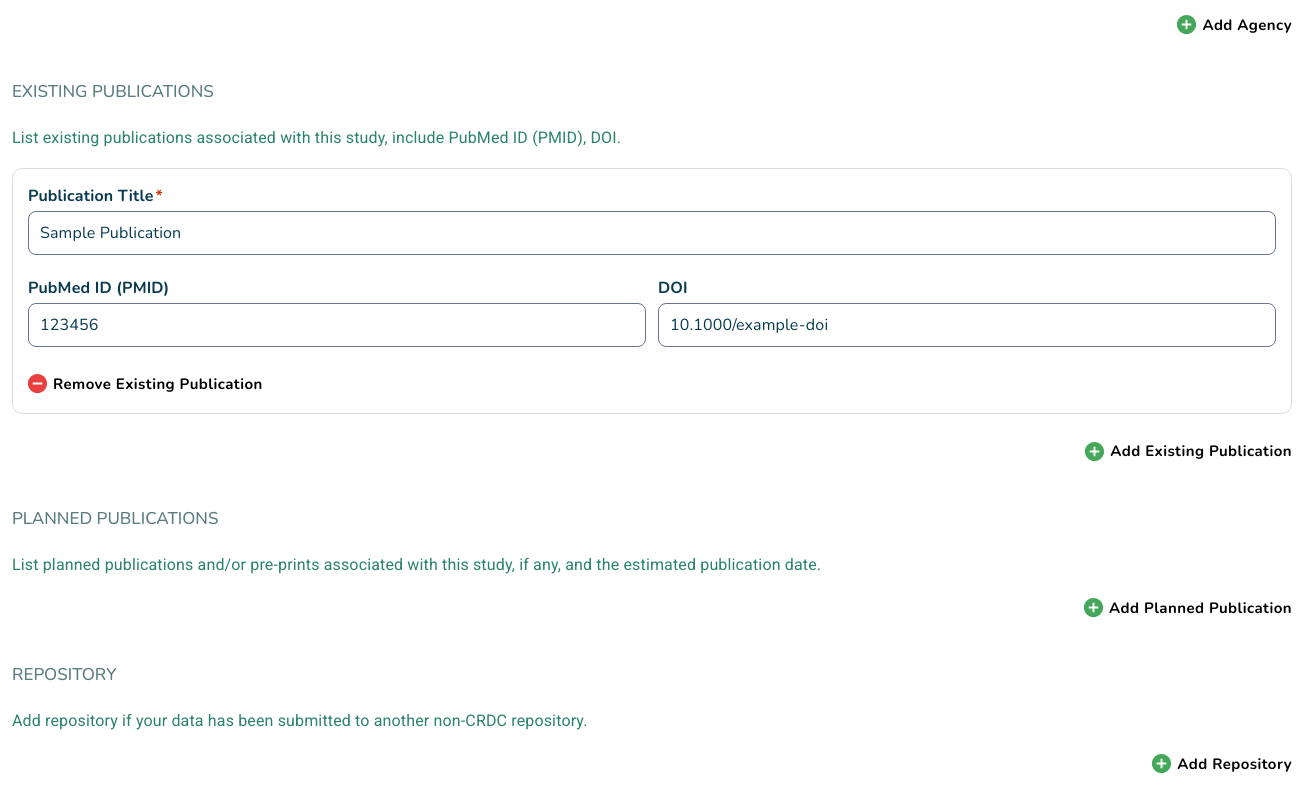
Basic Functionality › should add a planned publication when Add Planned Publication button is clicked
The width and height of the screenshot is (1304, 800).
(page scrolled)
Click the button with test id "section-b-add-planned-publication-button": [1188, 608] box x1=1084 y1=596 x2=1292 y2=619
(page scrolled)
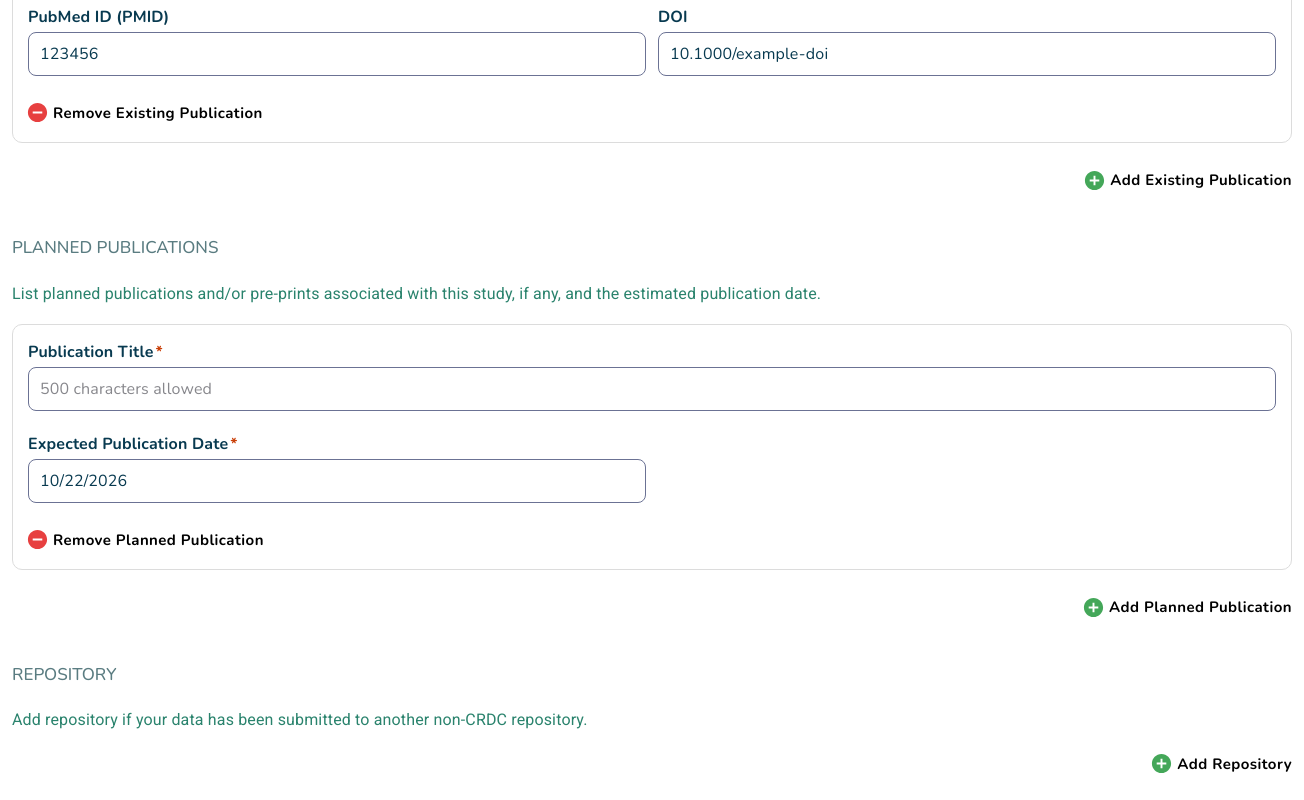
Expected: the element with test id "section-b-planned-publication-0" is shown, x1=12 y1=324 x2=1292 y2=570
